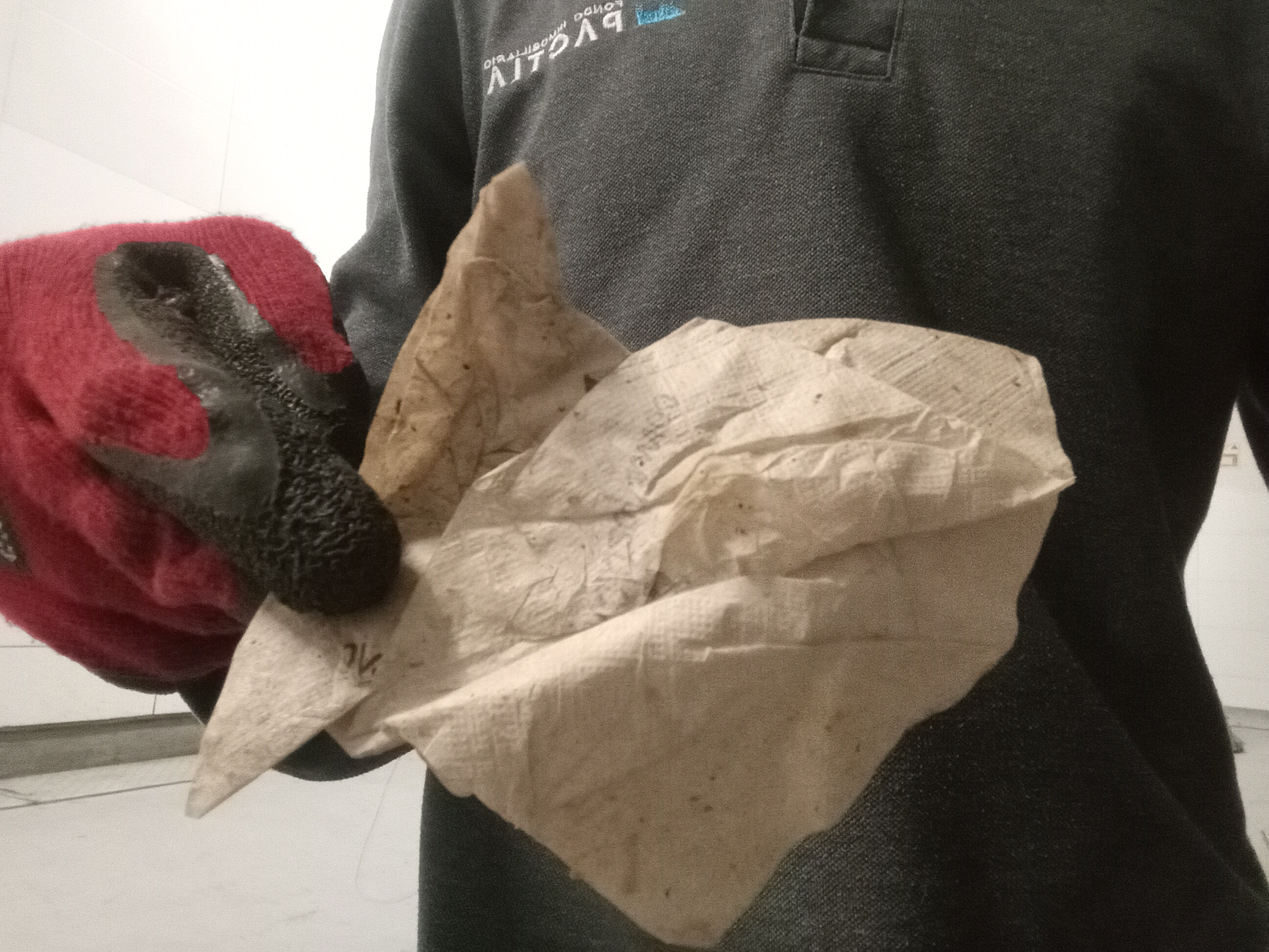Ordinario: (186, 155, 1075, 952)
